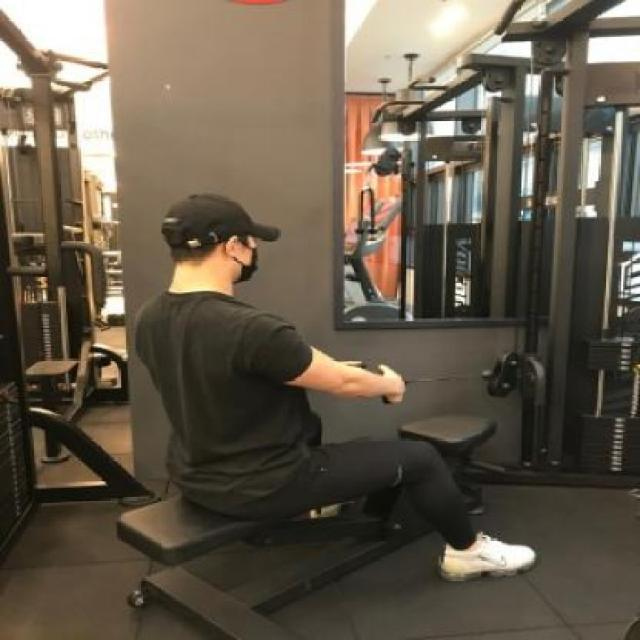Seated Cable Rows: (21, 9, 640, 640)
